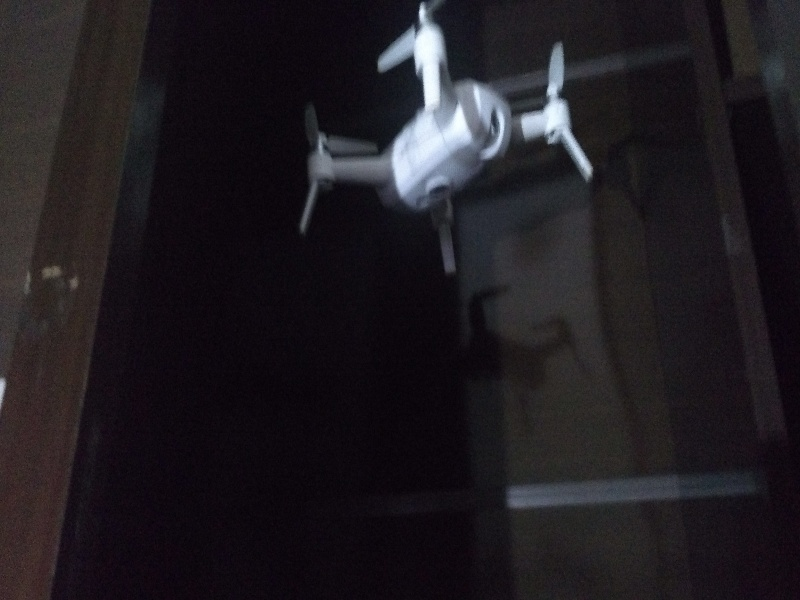drone: (284, 10, 607, 276)
